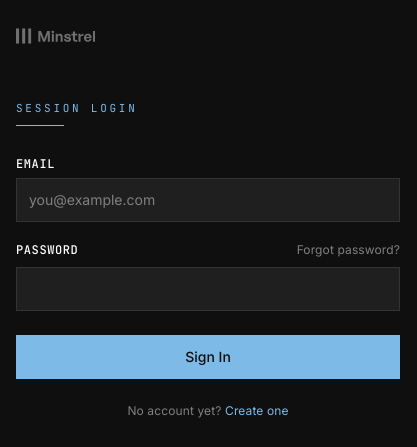
Test case: Story 27-7: Auth UX Improvements › AC2: Email validation › login page validates email format on blur
This screenshot has width=417, height=447.
Type "not-an-email" into the field labelled "Email".
click(208, 200); type("not-an-email")  # box [16,178,400,222]
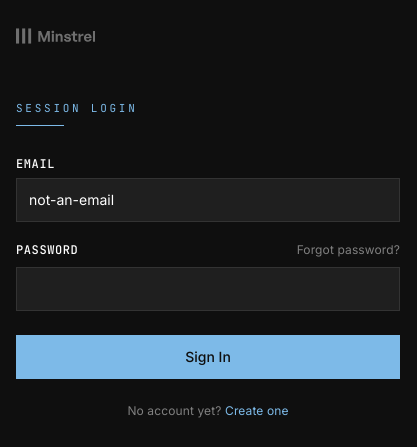
Leave the field labelled "Email", box [16,178,400,222]
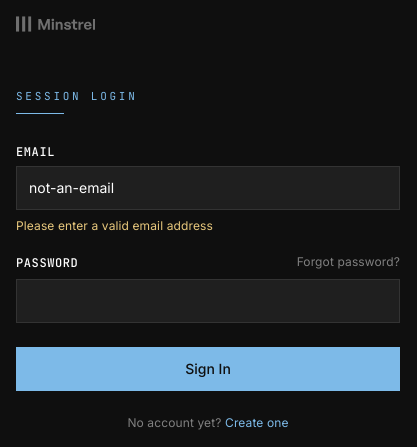
Expected: the text "Please enter a valid email address" is shown, [16,218,213,232]
